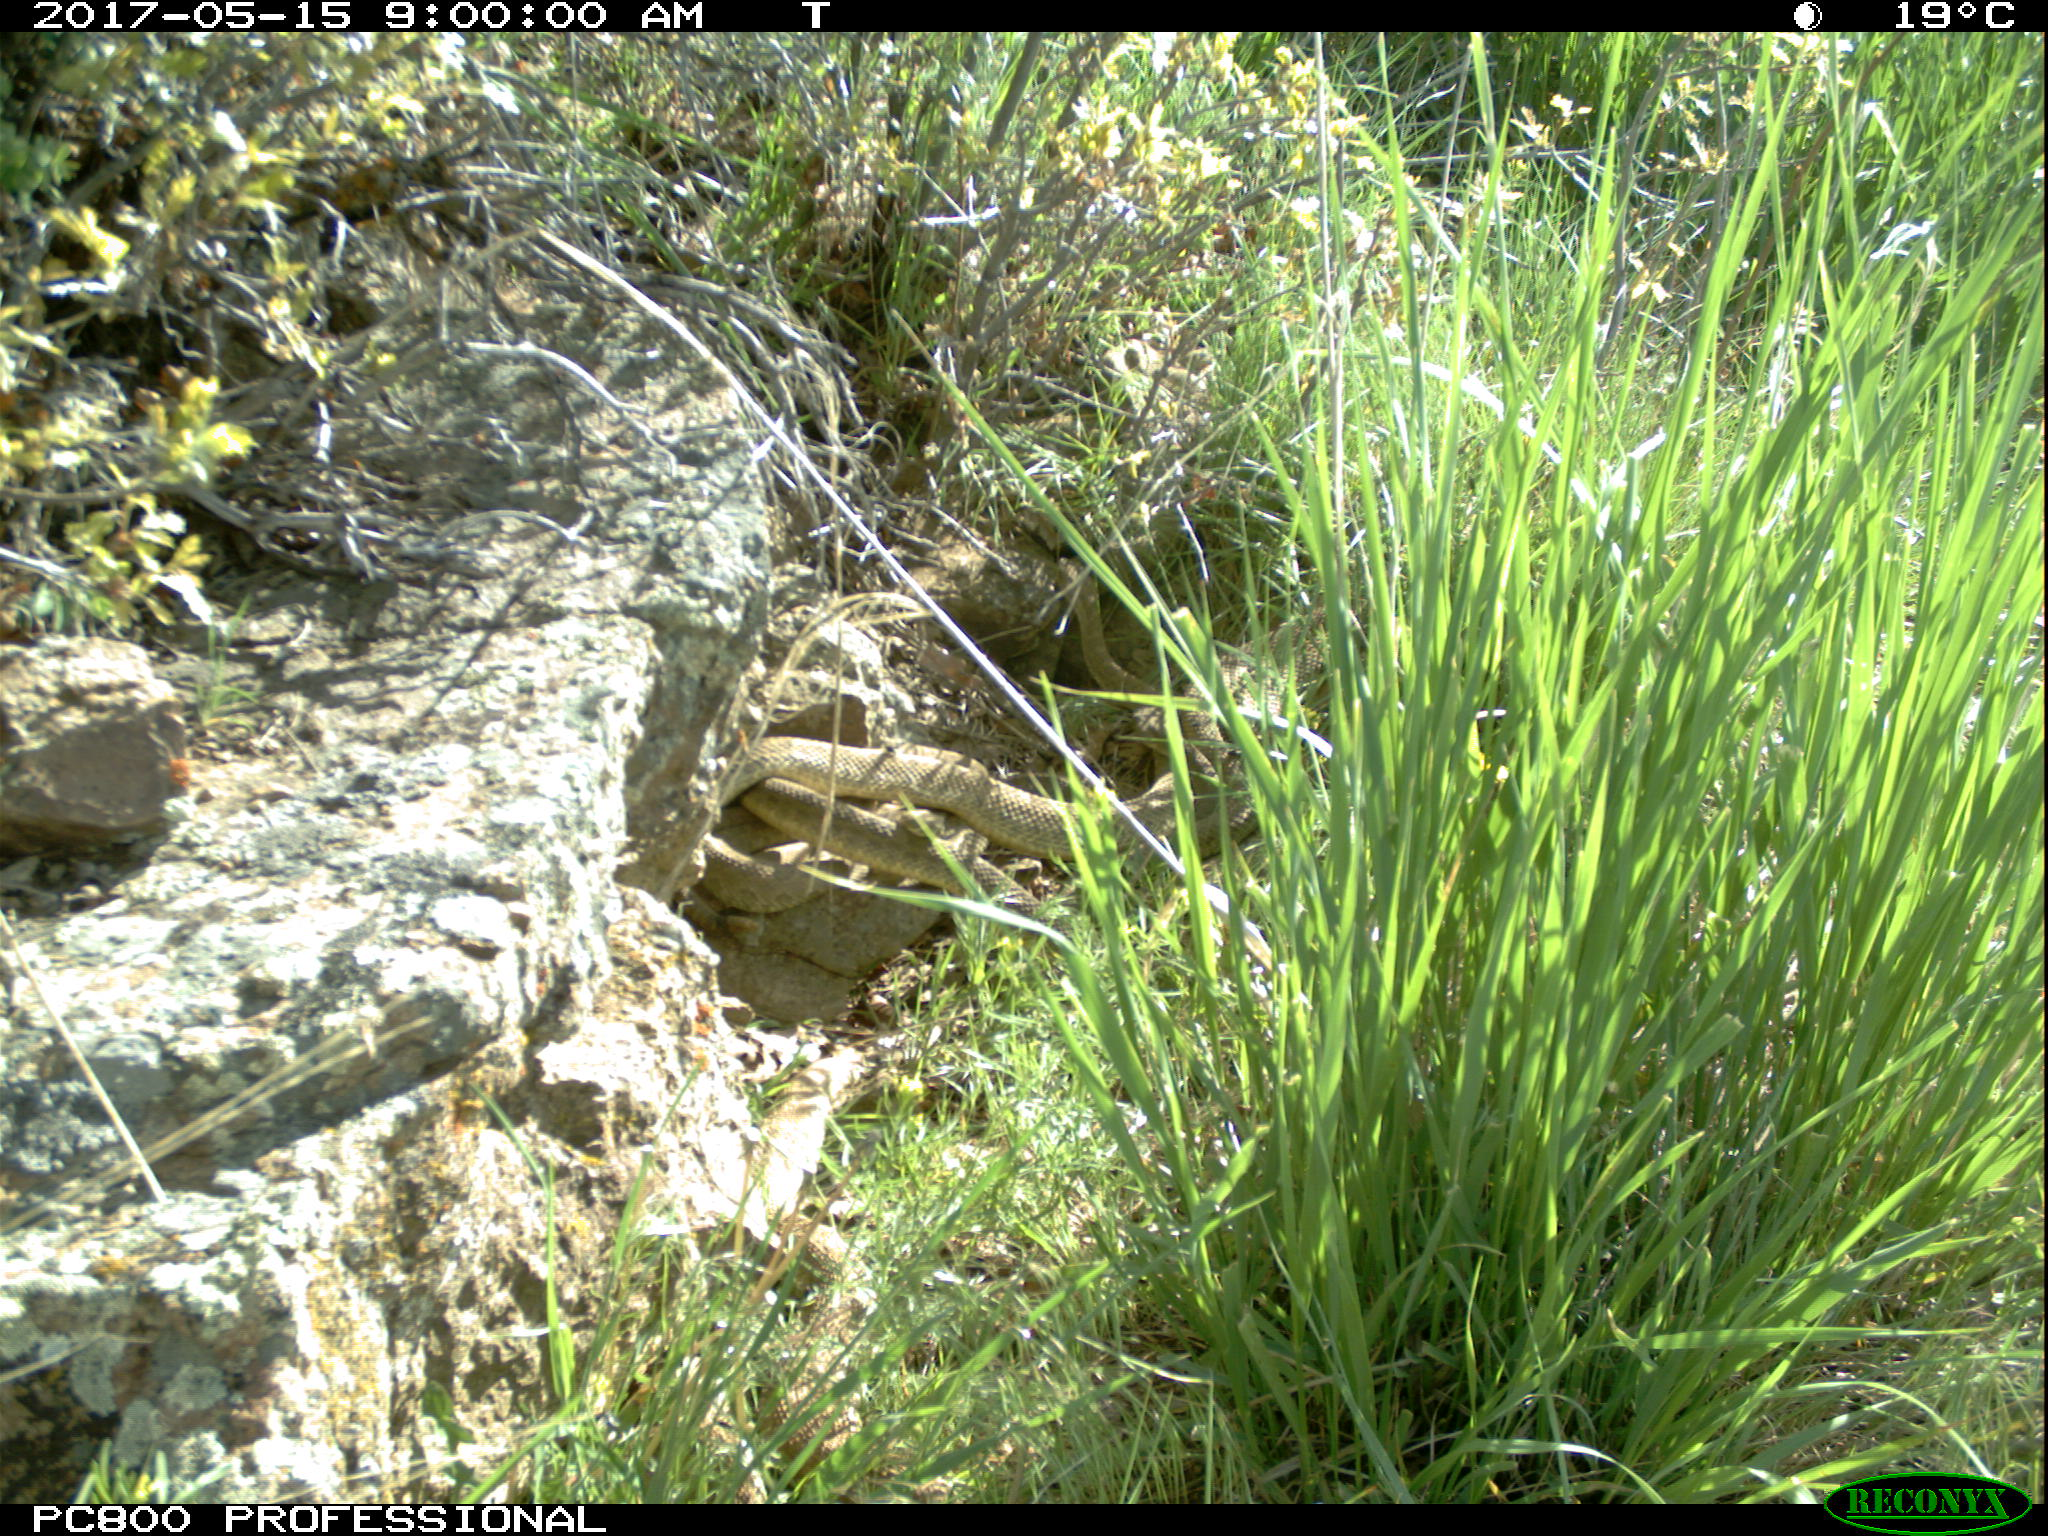snake: (722, 733, 1261, 849), (755, 1042, 872, 1463), (742, 778, 1047, 907), (697, 837, 855, 912), (1063, 574, 1143, 692)
